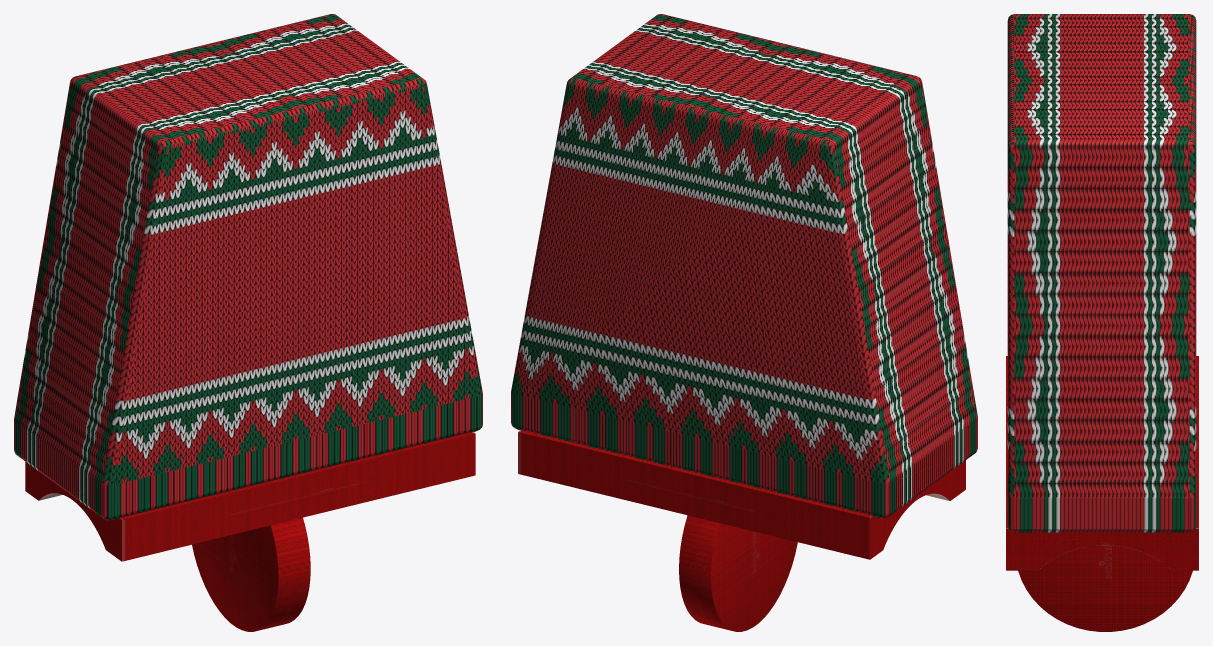
The model's file is CuerpoLego.obj.
3 renders of one model, left to right at view 1: azimuth 30°, elevation 25°; view 2: azimuth 150°, elevation 25°; view 3: azimuth 270°, elevation 25°, orthographic.
Visible parts, largest first — view 1: CuerpoLego:Cuerpo; view 2: CuerpoLego:Cuerpo; view 3: CuerpoLego:Cuerpo.
Boxes of the visible parts, x1,y1,x2,y2 form: CuerpoLego:Cuerpo: (14, 14, 482, 631); CuerpoLego:Cuerpo: (511, 14, 977, 631); CuerpoLego:Cuerpo: (1006, 14, 1198, 631).
Size of the model in its own units: 2.33 by 3.2 by 1.02.
2 materials, 2 textured.
